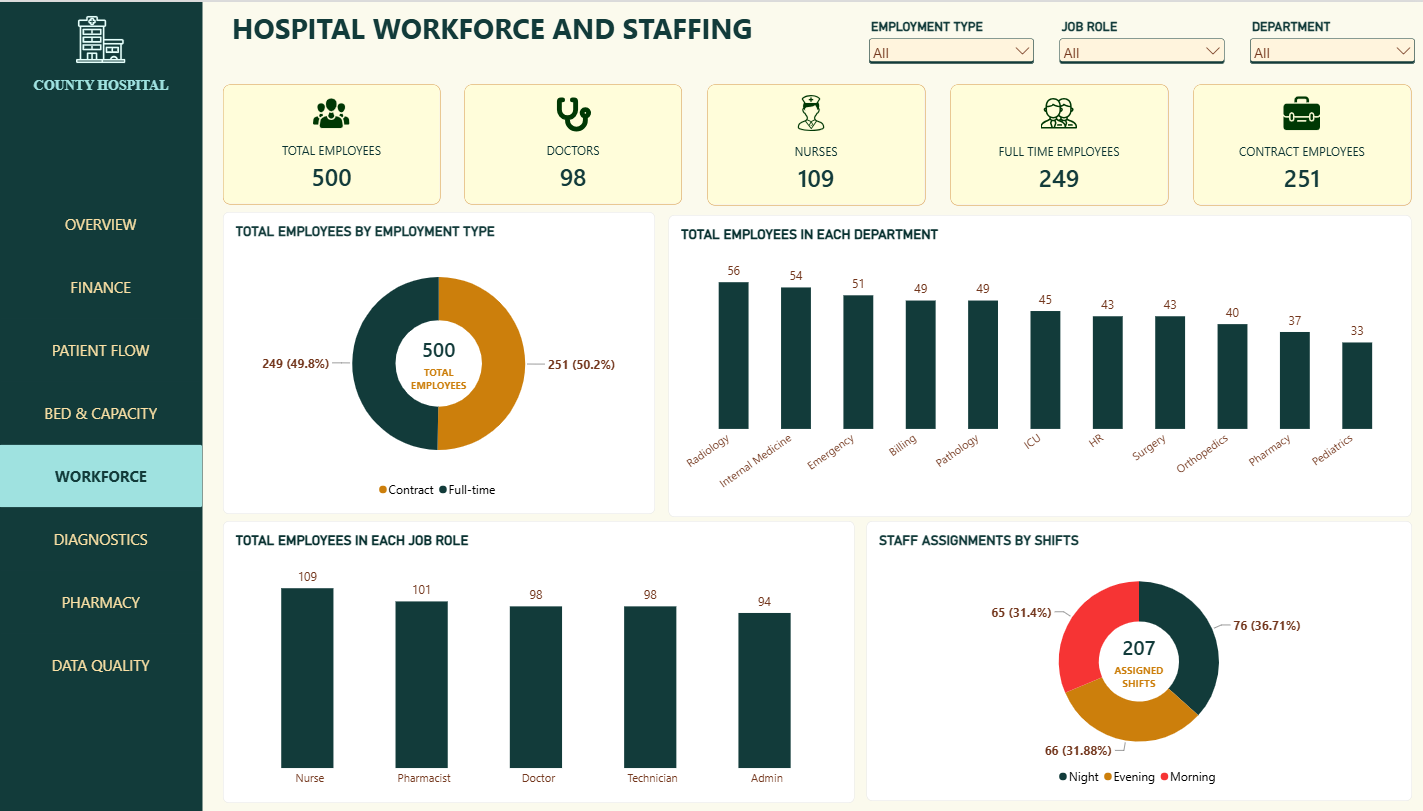

The dashboard page shown, as its layout file describes it:
{"tool":"powerbi","page":{"name":"WORKFORCE","canvas":[1920,1080],"ordinal":4},"visuals":[{"type":"shape","box":[9.8,0,270.8,1080.8],"z":0,"group":"g6"},{"type":"image","box":[112.3,0,65.9,100],"z":0,"group":"g2"},{"type":"textbox","box":[280.6,0,788.1,78.1],"z":0},{"type":"cardVisual","fields":{"Data":["hospital_operations_analysis employee_clean_view.TOTAL EMPLOYEES"]},"box":[307.4,109.8,290,160],"z":0,"group":"g4"},{"type":"textbox","box":[9.8,100,270.8,63.4],"z":1000,"group":"g2"},{"type":"group","id":"g1","title":"Group 3","box":[1278.5,109.8,290.3,161],"z":1000},{"type":"image","box":[428.2,124.4,48.8,48.8],"z":1000,"group":"g4"},{"type":"pageNavigator","box":[9.8,253.7,270.8,673.4],"z":1000,"group":"g6"},{"type":"group","id":"g2","title":"Group 1","box":[9.8,0,270.8,163.5],"z":2000,"group":"g6"},{"type":"cardVisual","fields":{"Data":["DateTable.NURSES"]},"box":[954,109.8,290.3,161],"z":2000},{"type":"cardVisual","fields":{"Data":["DateTable.FULL TIME EMPLOYEES"]},"box":[1278.5,109.8,290.3,161],"z":2000,"group":"g1"},{"type":"group","id":"g3","title":"Group 5","box":[1603,109.8,290.3,161],"z":3000},{"type":"group","id":"g4","title":"Group 6","box":[307.4,109.8,287.9,161],"z":4000},{"type":"cardVisual","fields":{"Data":["DateTable.CONTRACT EMPLOYEES"]},"box":[1603,109.8,290.3,161],"z":4000,"group":"g3"},{"type":"group","id":"g5","title":"Group 1","box":[629.5,109.8,290,160],"z":5000},{"type":"image","box":[1398,124.4,48.8,48.8],"z":6000},{"type":"image","box":[749,124.4,52,52],"z":7000},{"type":"image","box":[1068.6,124.4,48,48],"z":8000},{"type":"cardVisual","fields":{"Data":["DateTable.DOCTORS"]},"box":[629.5,109.8,290,160],"z":9000,"group":"g5"},{"type":"image","box":[1722.5,124.4,48.8,48.8],"z":9000},{"type":"clusteredColumnChart","title":"TOTAL EMPLOYEES IN EACH JOB ROLE","fields":{"Category":["hospital_operations_analysis employee_clean_view.role"],"Y":["hospital_operations_analysis employee_clean_view.TOTAL EMPLOYEES"]},"box":[307.4,692.9,841.7,375.7],"z":10000},{"type":"clusteredColumnChart","title":"TOTAL EMPLOYEES IN EACH DEPARTMENT","fields":{"Category":["hospital_operations_analysis department.department_name"],"Y":["hospital_operations_analysis employee_clean_view.TOTAL EMPLOYEES"]},"box":[902.7,283,990.6,402.6],"z":11000},{"type":"donutChart","title":"TOTAL EMPLOYEES BY EMPLOYMENT TYPE","fields":{"Category":["hospital_operations_analysis employee_clean_view.employment_type"],"Y":["hospital_operations_analysis employee_clean_view.TOTAL EMPLOYEES"]},"box":[307.4,280.6,575.8,402.6],"z":12000},{"type":"donutChart","title":"STAFF ASSIGNMENTS BY SHIFTS","fields":{"Category":["hospital_operations_analysis staff_assignment.shift"],"Y":["DateTable.STAFF ASSIGNMENTS"]},"box":[1166.2,692.9,727.1,373.3],"z":13000},{"type":"group","id":"g6","title":"Group 2","box":[9.8,0,270.8,1080.8],"z":14000},{"type":"slicer","fields":{"Values":["hospital_operations_analysis employee_clean_view.employment_type"]},"box":[1163.8,22,230,78.1],"z":17000},{"type":"slicer","fields":{"Values":["hospital_operations_analysis employee_clean_view.role"]},"box":[1417.5,22,230,78.1],"z":18000},{"type":"slicer","fields":{"Values":["hospital_operations_analysis department.department_type"]},"box":[1671.3,22,230,78.1],"z":19000}]}

Visuals, with their boxes in screenshot pixels (x1, y1, x2, y2), scaled from the page's 1920x1080 canvas onto the 1423x811 screenshot:
shape: 7,0,208,810
image: 83,0,132,75
textbox: 208,0,792,59
cardVisual - hospital_operations_analysis employee_clean_view.TOTAL EMPLOYEES: 228,82,443,203
textbox: 7,75,208,123
"Group 3" group: 948,82,1163,203
image: 317,93,354,130
pageNavigator: 7,191,208,696
"Group 1" group: 7,0,208,123
cardVisual - DateTable.NURSES: 707,82,922,203
cardVisual - DateTable.FULL TIME EMPLOYEES: 948,82,1163,203
"Group 5" group: 1188,82,1403,203
"Group 6" group: 228,82,441,203
cardVisual - DateTable.CONTRACT EMPLOYEES: 1188,82,1403,203
"Group 1" group: 467,82,681,203
image: 1036,93,1072,130
image: 555,93,594,132
image: 792,93,828,129
cardVisual - DateTable.DOCTORS: 467,82,681,203
image: 1277,93,1313,130
"TOTAL EMPLOYEES IN EACH JOB ROLE" clusteredColumnChart: 228,520,852,802
"TOTAL EMPLOYEES IN EACH DEPARTMENT" clusteredColumnChart: 669,213,1403,515
"TOTAL EMPLOYEES BY EMPLOYMENT TYPE" donutChart: 228,211,655,513
"STAFF ASSIGNMENTS BY SHIFTS" donutChart: 864,520,1403,801
"Group 2" group: 7,0,208,810
slicer - hospital_operations_analysis employee_clean_view.employment_type: 863,17,1033,75
slicer - hospital_operations_analysis employee_clean_view.role: 1051,17,1221,75
slicer - hospital_operations_analysis department.department_type: 1239,17,1409,75
